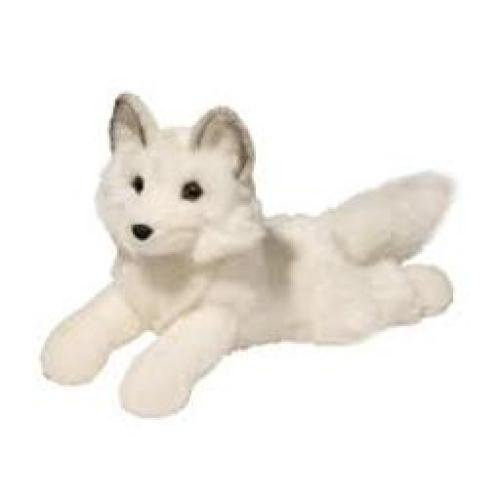arctic_fox-endangered: (39, 88, 456, 417)
